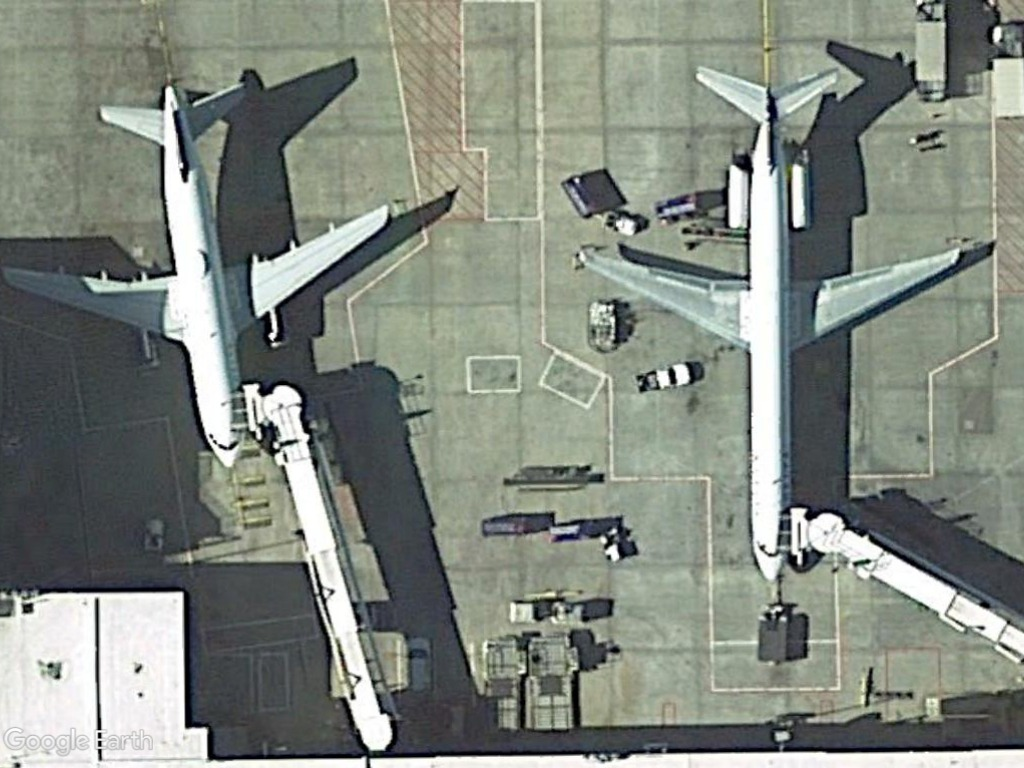airliner: (1, 70, 394, 484)
chartered: (574, 52, 972, 593)
